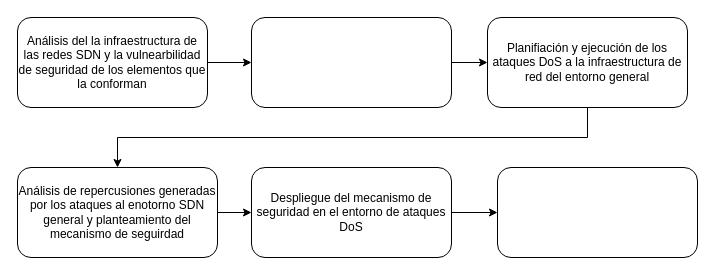
Image size: 715x275. Some labels were removed from this diagram. Here are the shapes that lost their labels. From the top down, the box of each, then its label:
(250, 16, 452, 108): Implementación del entorno general de la red SDN/MPLS de servicios diferenciados
(496, 166, 698, 258): Resultados y evaluación del rendmiento del mecanismo de seguridad en la red SDN
